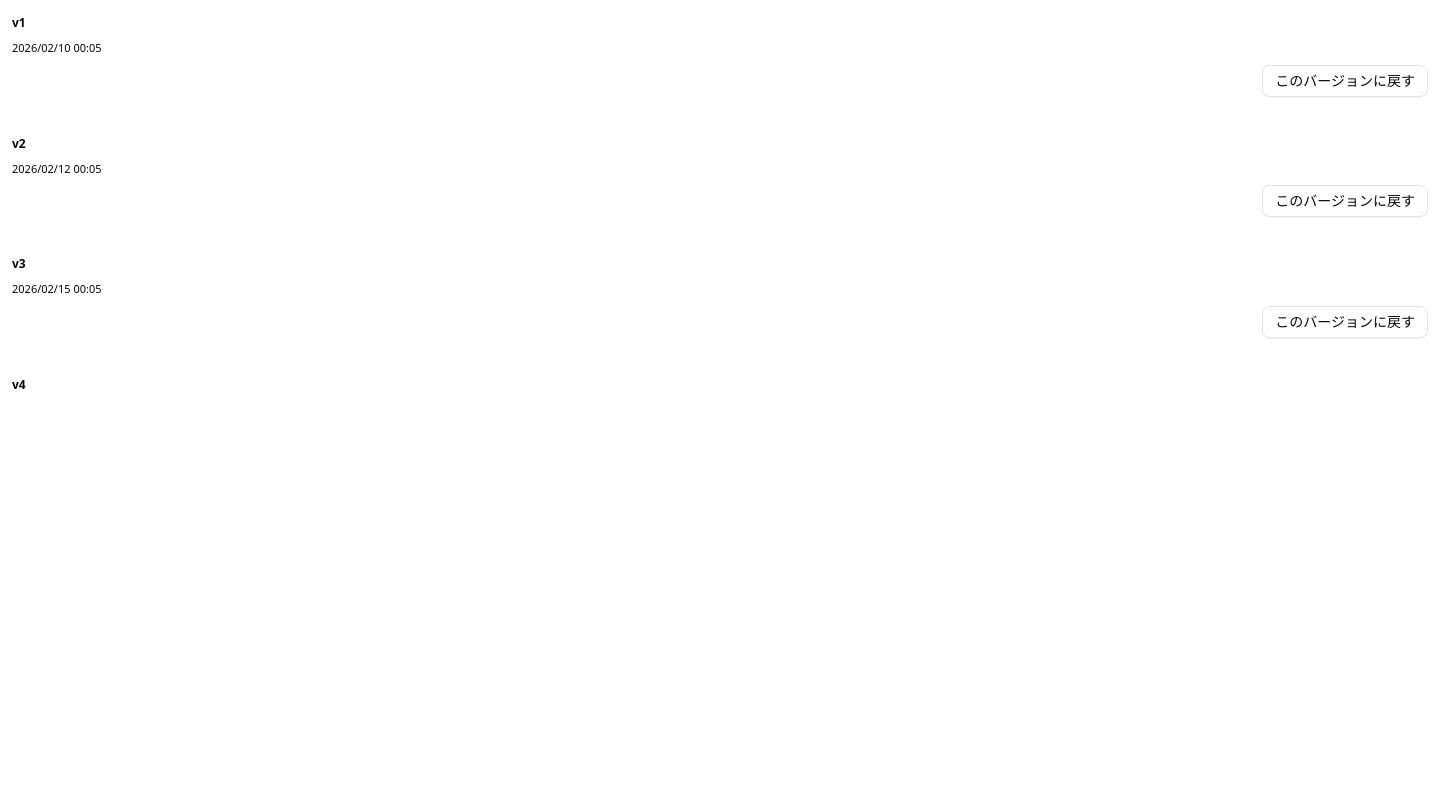
Test: SnapshotList › プレビューモーダルにPlotタイトル・説明・タグが表示される
The width and height of the screenshot is (1440, 810).
Expected: the element with test id "snapshot-list" is shown, [0, 0, 1439, 400]
Click the button "v1 毎時 2026/02/10 00:05 このバージョンに戻す" at [720, 54], box [0, 0, 1439, 108]
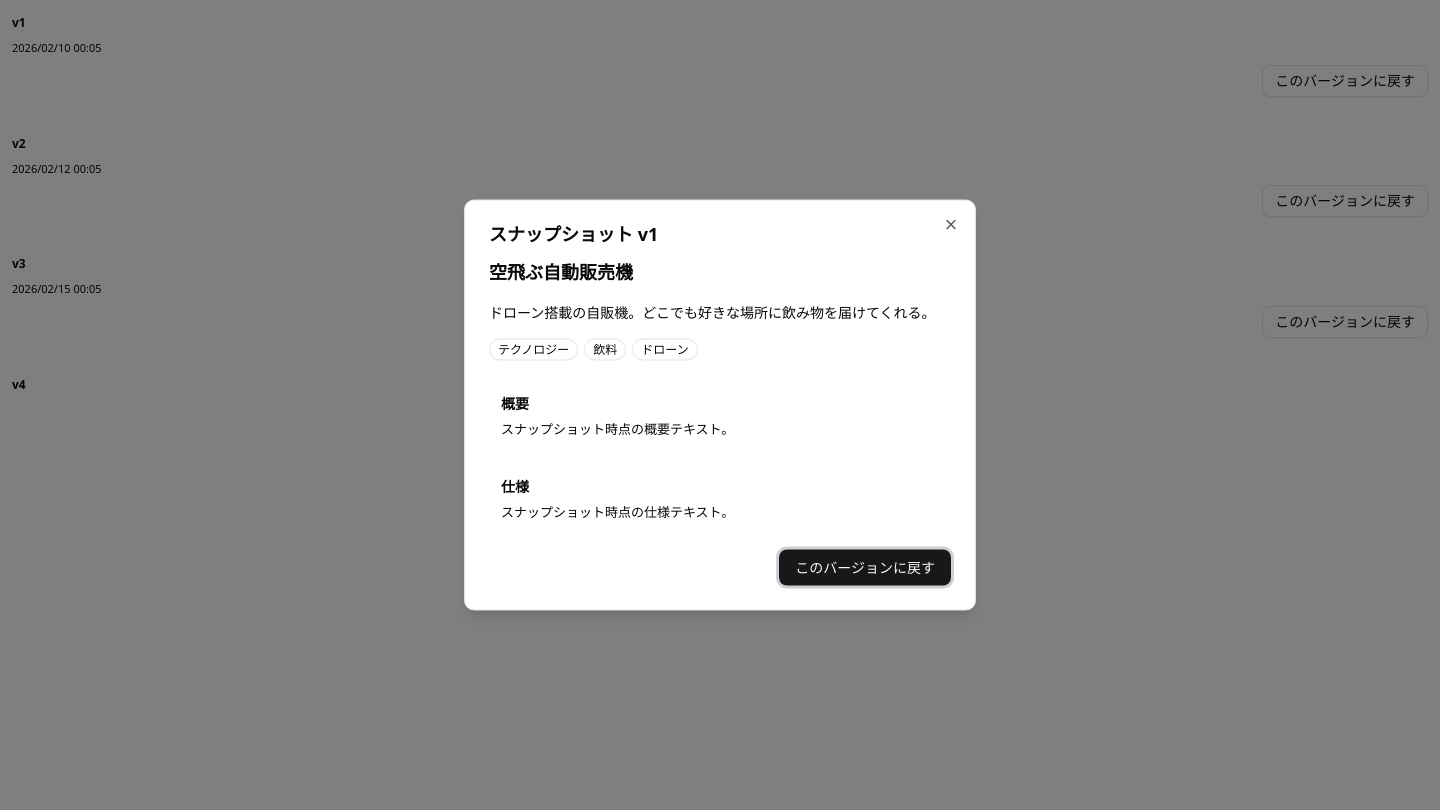
Expected: the element with test id "snapshot-preview" is shown, [489, 258, 951, 534]
Expected: the heading "空飛ぶ自動販売機" is shown, [489, 260, 633, 284]
Expected: the text "ドローン搭載の自販機。どこでも好きな場所に飲み物を届けてくれる。" is shown, [489, 302, 951, 322]
